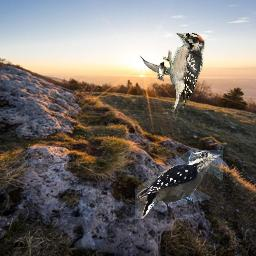Swallow: (139, 55, 184, 82)
Woodpecker: (135, 150, 223, 219), (163, 33, 205, 120)
